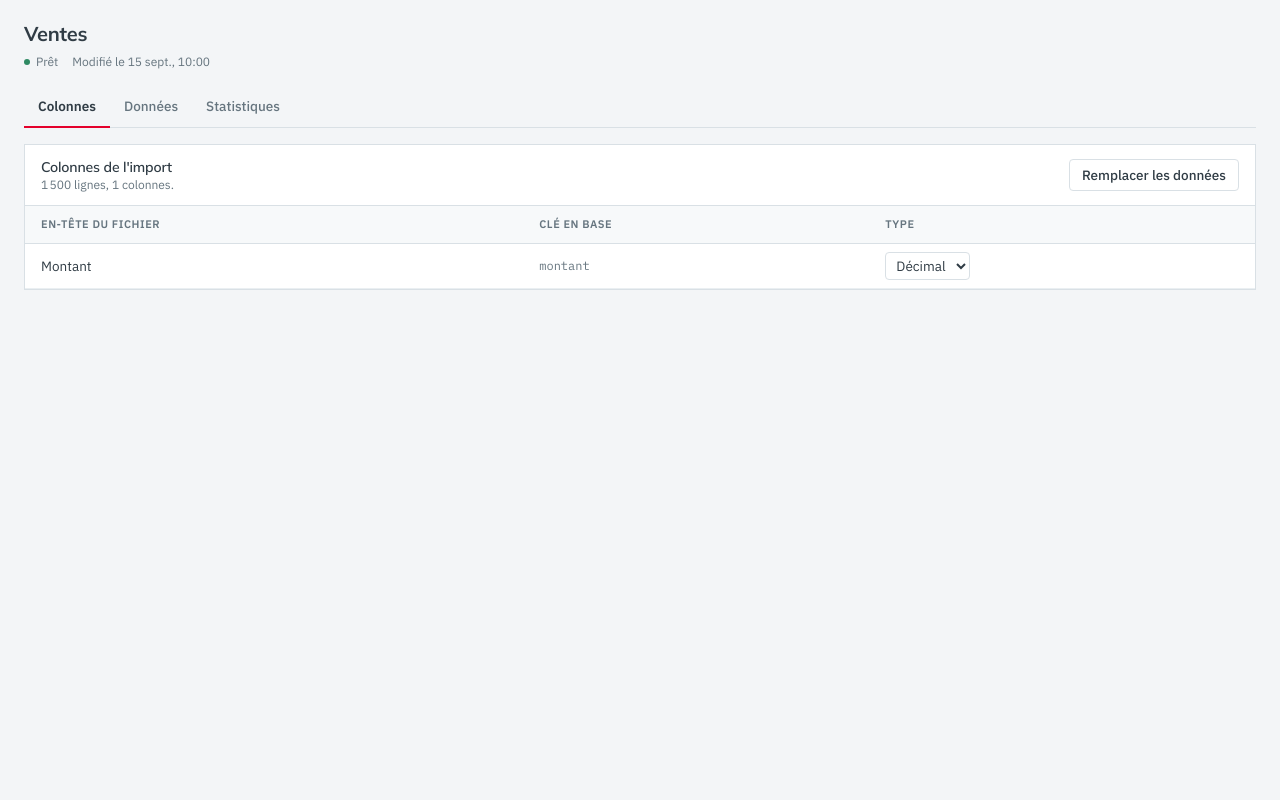
Test: convertit une colonne après confirmation
Step 1. Select "Entier" in the dropdown named "Type de Montant" → [928, 266], box [885,252,970,280]
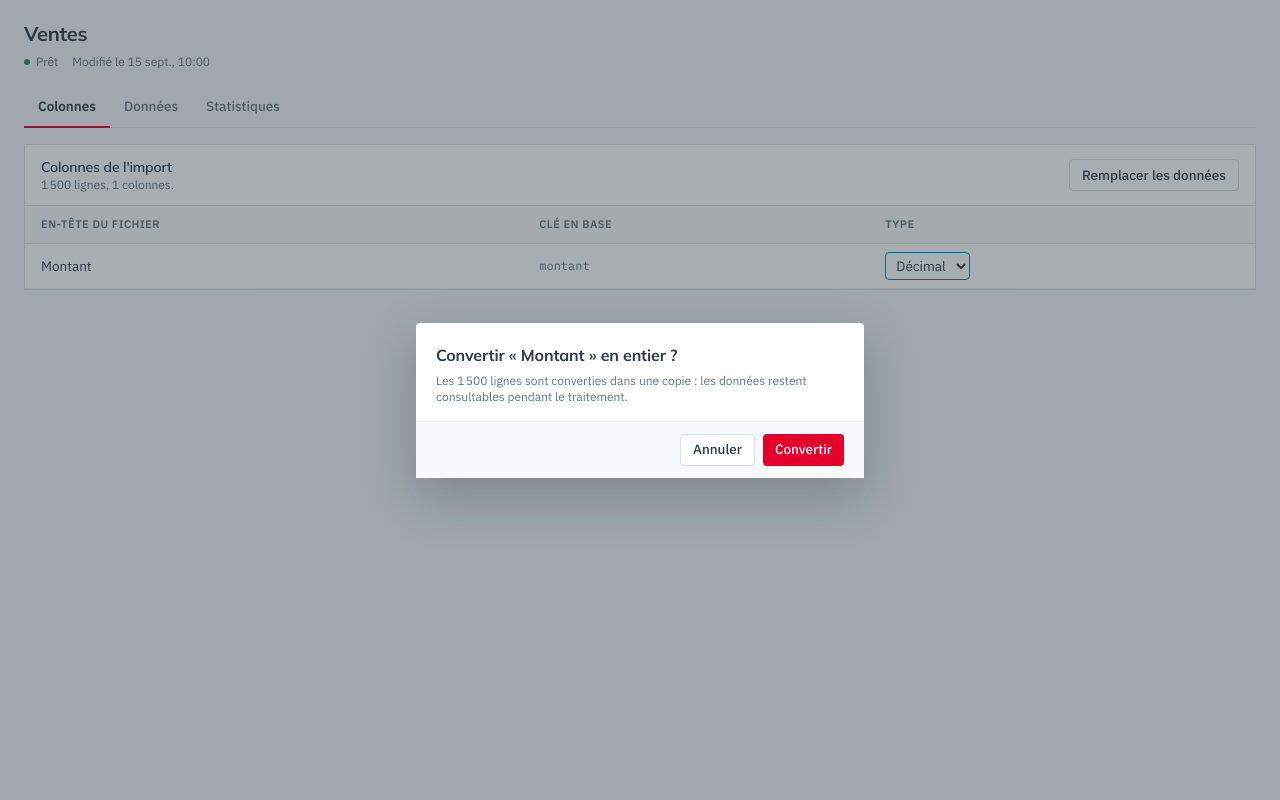
Step 2. Click the button "Convertir" → [803, 450], box [763,434,844,466]
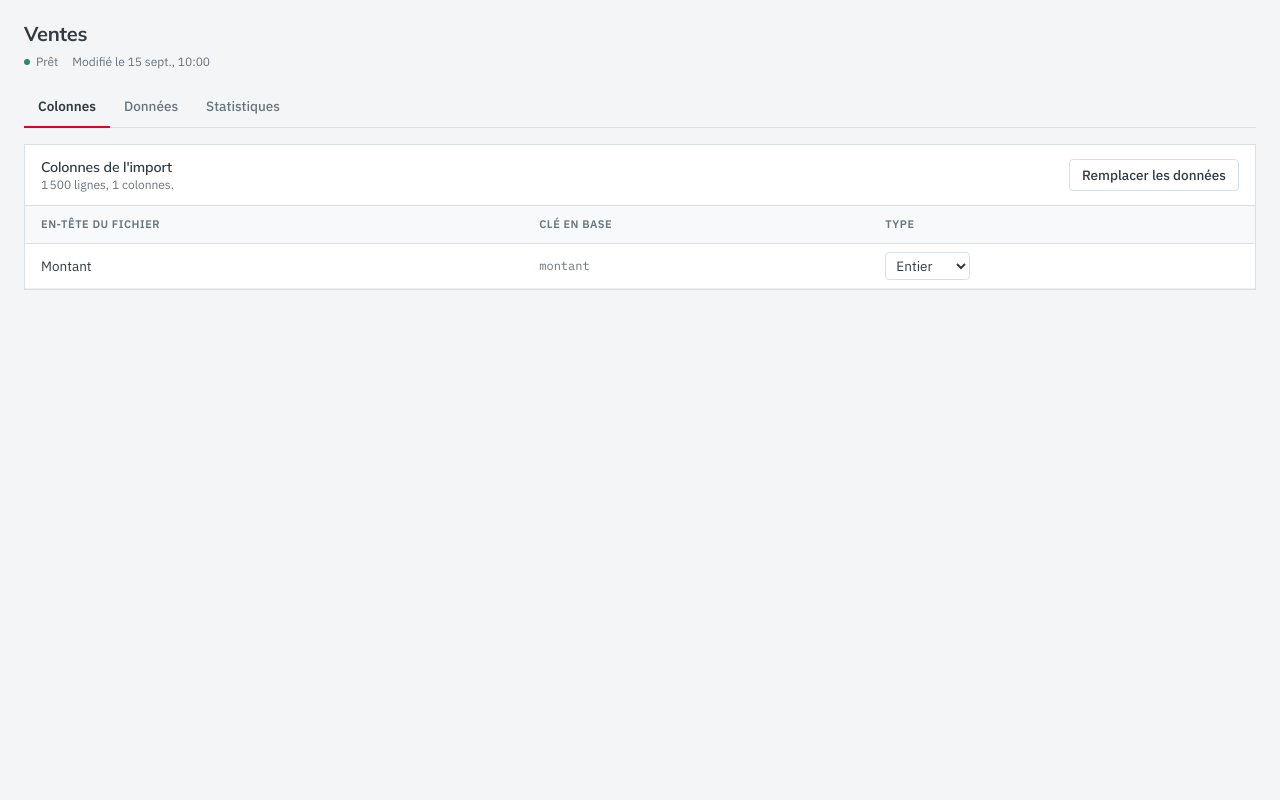
Result: the dropdown showing "Entier" is shown at [885,252,970,280]
